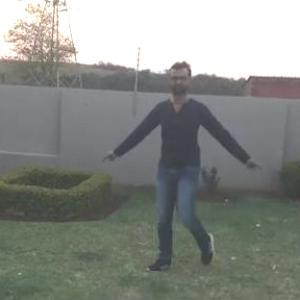land: (125, 70, 241, 240)
